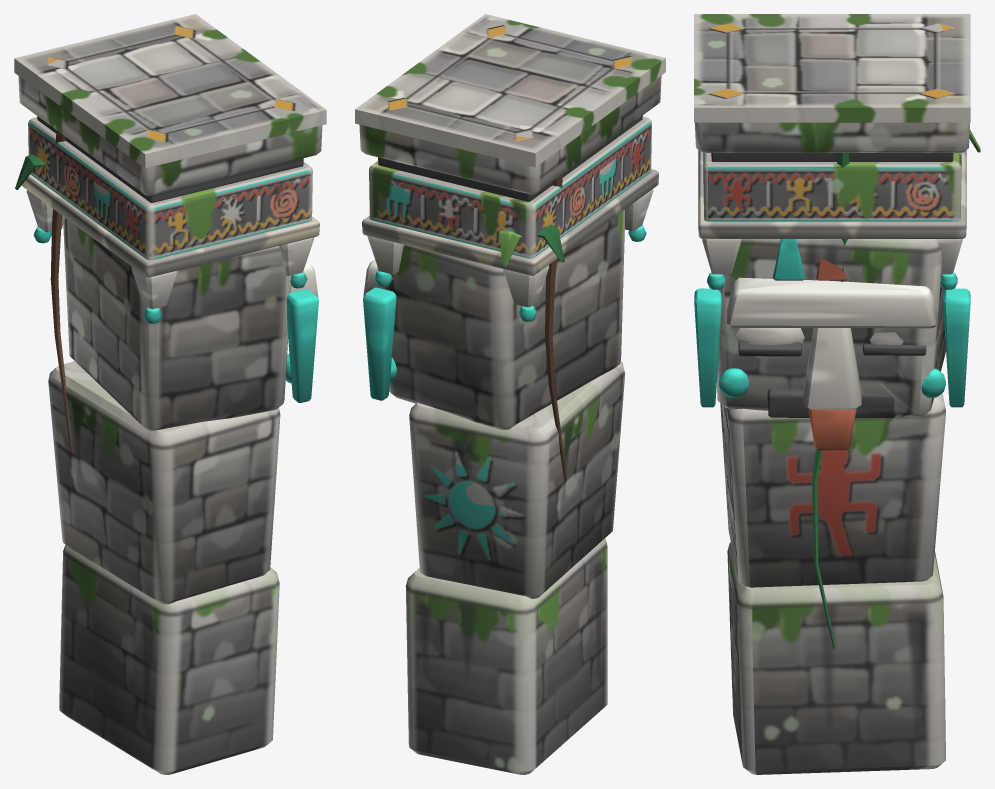
Rendered from stone_2.glb.
The picture shows the model from 3 angles, left to right: view 1: azimuth 30°, elevation 25°; view 2: azimuth 150°, elevation 25°; view 3: azimuth 270°, elevation 25°; orthographic projection. The views are drawn at different scales.
Visible parts, largest first — view 1: stone_2.001; view 2: stone_2.001; view 3: stone_2.001.
Part boxes in pixels (bbox=[...]): stone_2.001: bbox=[14, 14, 326, 774]; stone_2.001: bbox=[355, 14, 665, 774]; stone_2.001: bbox=[694, 14, 980, 774].
Size of the model in its own units: 4.68 by 13.68 by 5.18.
Materials: 1 (1 with a texture image).
